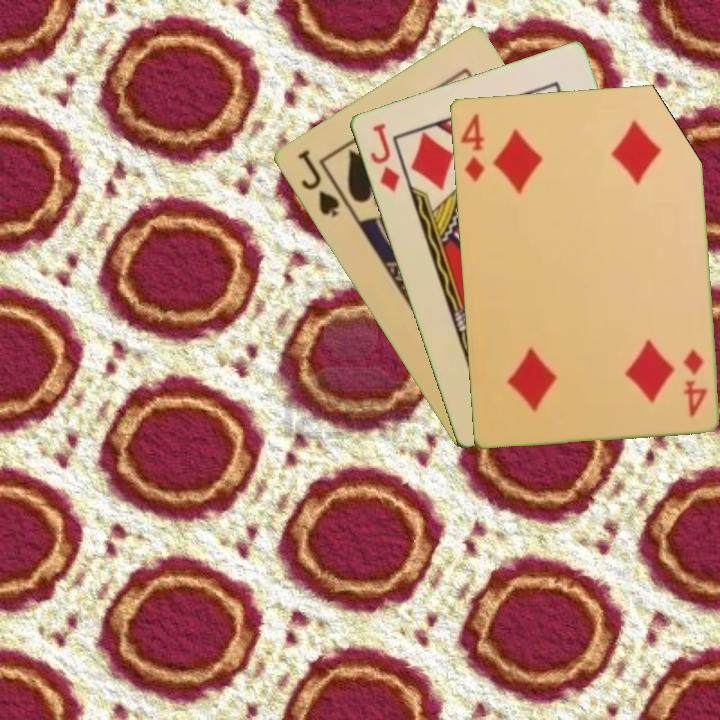4d: (456, 110, 487, 184), (679, 345, 710, 419)
Jd: (365, 119, 403, 195)
Js: (293, 145, 342, 221)
